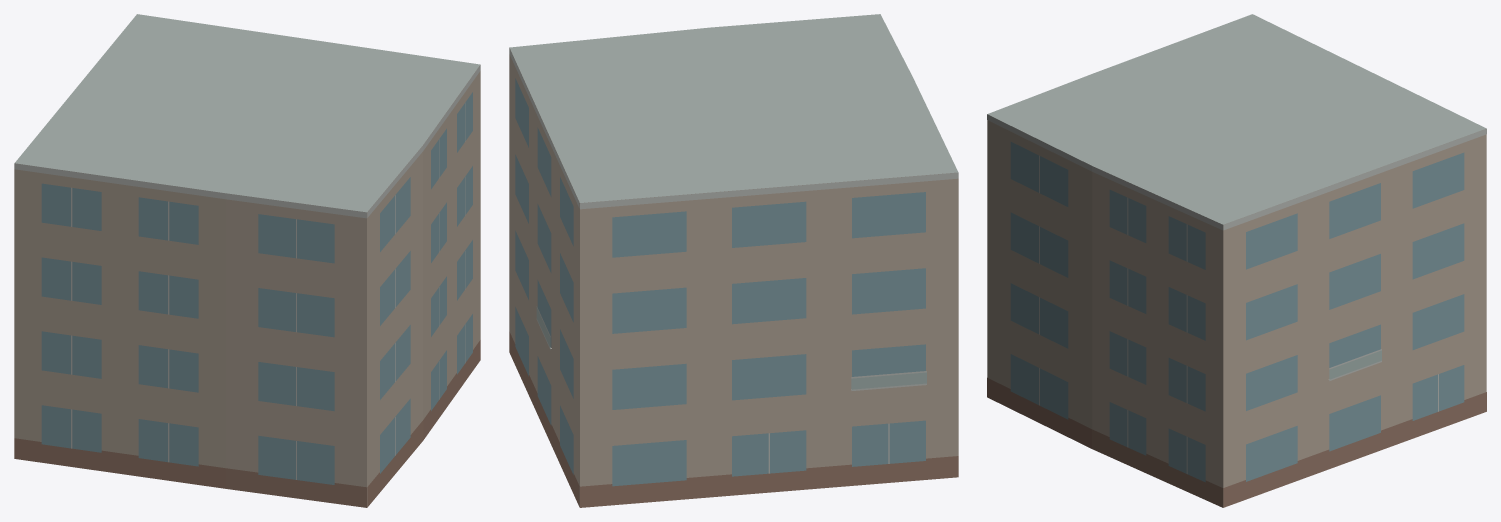
Rendered from survey-upis-32740572.glb.
The picture shows the model from 3 angles, left to right: view 1: azimuth 30°, elevation 25°; view 2: azimuth 150°, elevation 25°; view 3: azimuth 270°, elevation 25°; orthographic projection. The views are drawn at different scales.
Parts seen in each view (by area): view 1: survey-upis-32740572.tmp; view 2: survey-upis-32740572.tmp; view 3: survey-upis-32740572.tmp.
Part boxes in pixels (<box>): survey-upis-32740572.tmp: <box>14,14,480,507</box>; survey-upis-32740572.tmp: <box>509,14,958,507</box>; survey-upis-32740572.tmp: <box>987,14,1486,507</box>.
Bounding box in the file's own units: 19.07 × 11.94 × 19.1.
